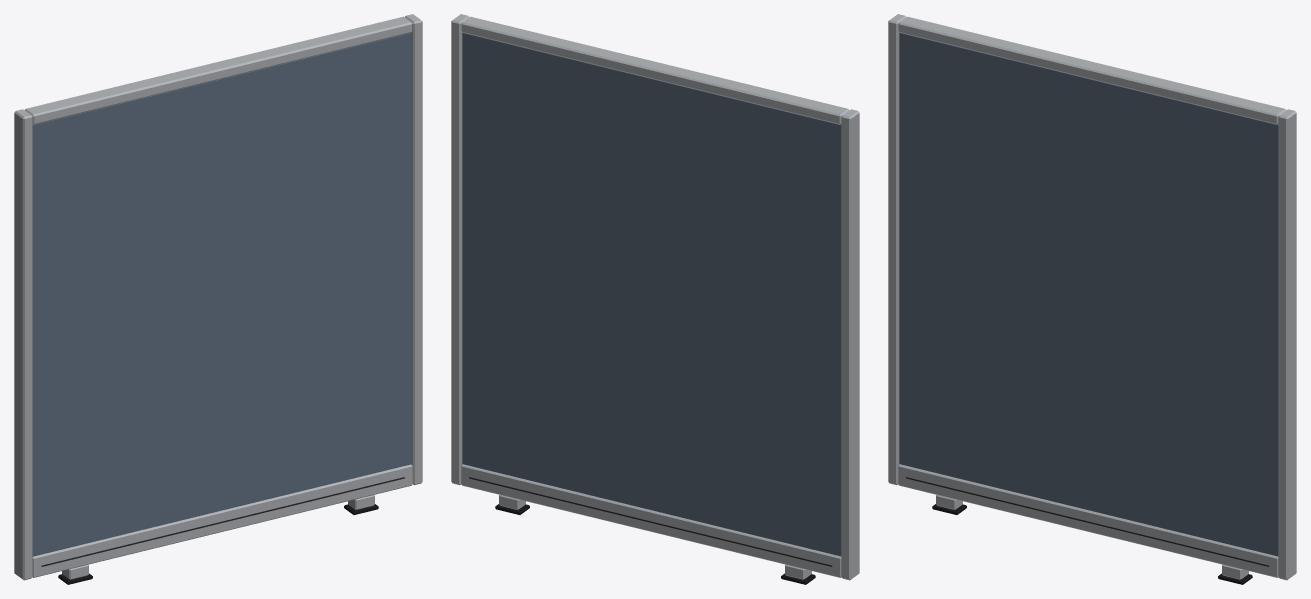
Rendered from DivisoriaCubiculo.fbx.
The picture shows the model from 3 angles, left to right: view 1: azimuth 30°, elevation 25°; view 2: azimuth 150°, elevation 25°; view 3: azimuth 330°, elevation 25°; orthographic projection.
Visible parts, largest first — view 1: DivisoriaCubiculo; view 2: DivisoriaCubiculo; view 3: DivisoriaCubiculo.
Boxes of the visible parts, x1=… form: DivisoriaCubiculo: x1=14, y1=14, x2=422, y2=584; DivisoriaCubiculo: x1=451, y1=14, x2=859, y2=584; DivisoriaCubiculo: x1=888, y1=14, x2=1296, y2=584.
Size of the model in its own units: 1.4 by 1.6 by 0.06.
